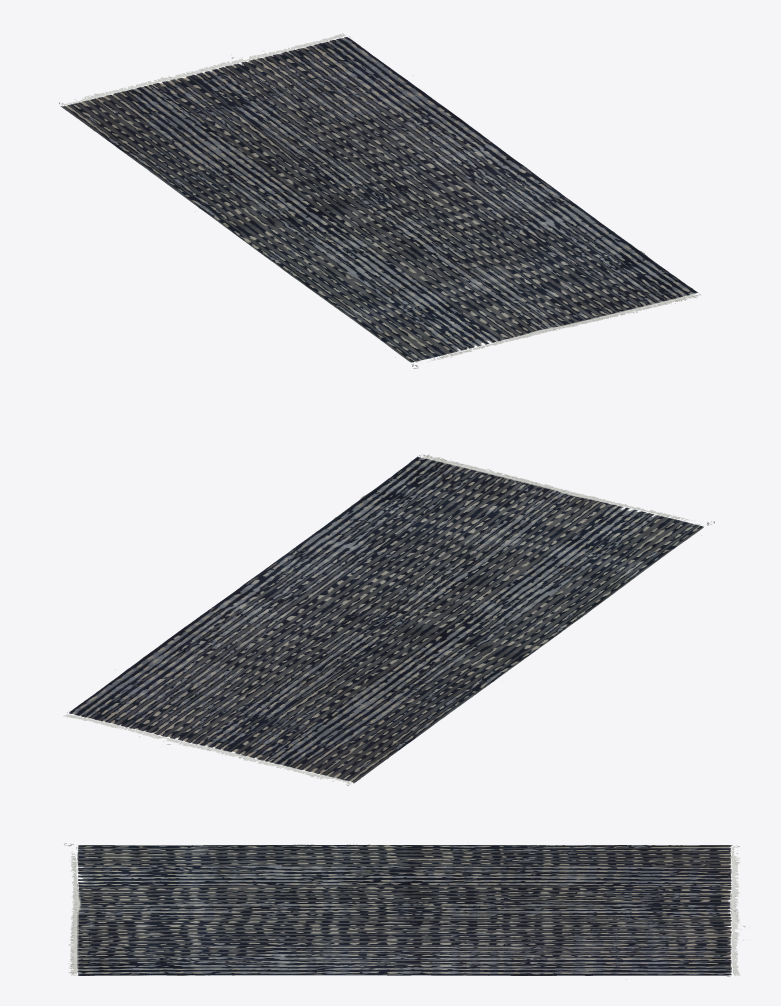
Rendered from rug1.dae.
The picture shows the model from 3 angles, top to bottom: view 1: azimuth 30°, elevation 25°; view 2: azimuth 150°, elevation 25°; view 3: azimuth 270°, elevation 25°; orthographic projection. The views are drawn at different scales.
Parts seen in each view (by area): view 1: rug1; view 2: rug1; view 3: rug1.
Part boxes in pixels (left/top/right/bottom): rug1: left=59, top=33, right=700, bottom=368; rug1: left=63, top=454, right=714, bottom=785; rug1: left=64, top=842, right=754, bottom=979.
Size of the model in its own units: 1 by 0 by 2.
1 material, 1 textured.
